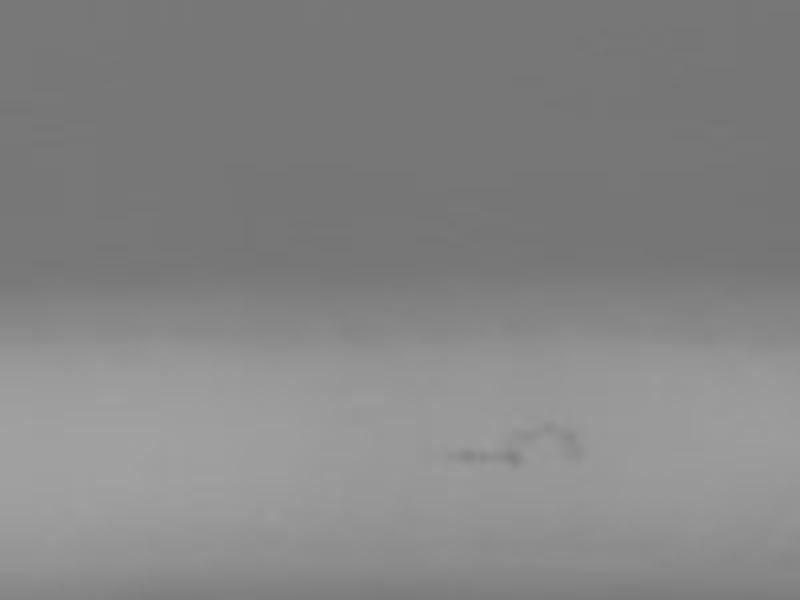defect: (551, 424, 583, 462), (451, 444, 493, 463), (499, 442, 527, 468), (509, 424, 546, 442)
